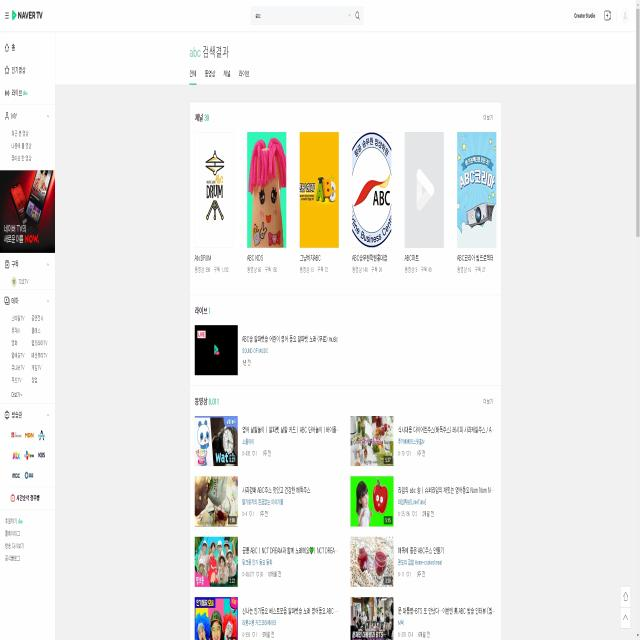menu-bar: (569, 4, 633, 26)
search: (249, 1, 366, 28)
tab-bar: (188, 66, 251, 87)
